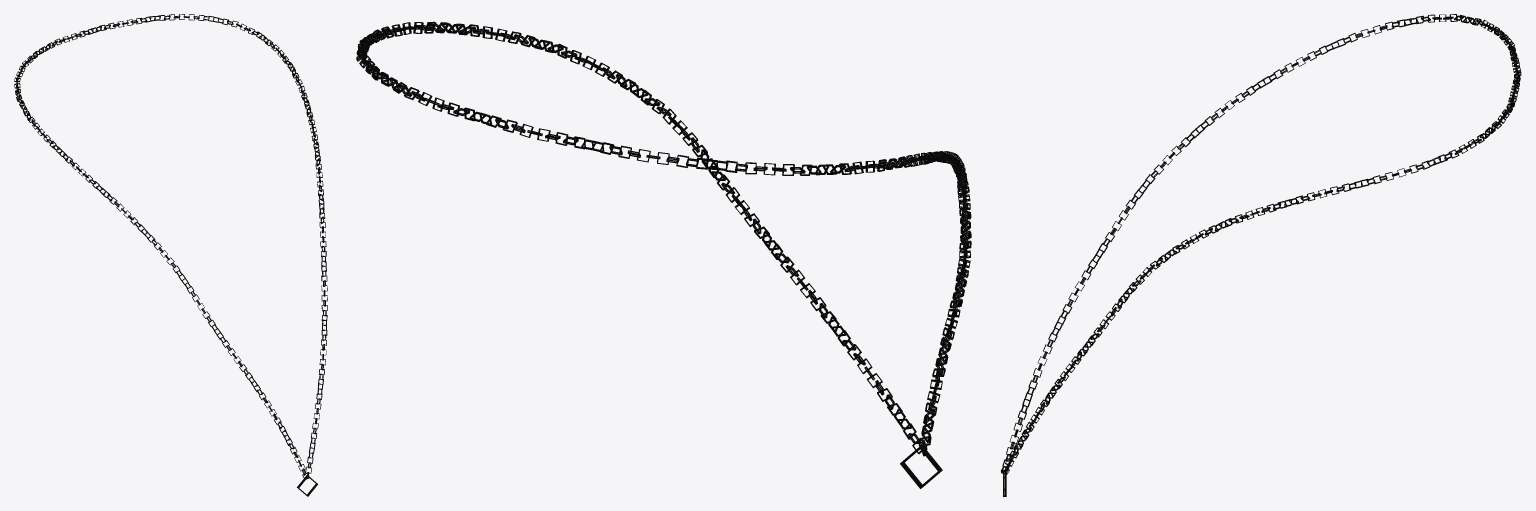
Rendered from thin-necklace.glb.
3 renders of one model, left to right at view 1: azimuth 30°, elevation 25°; view 2: azimuth 150°, elevation 25°; view 3: azimuth 270°, elevation 25°, orthographic. The views are drawn at different scales.
Parts seen in each view (by area): view 1: node_id8; view 2: node_id8; view 3: node_id8.
Boxes of the visible parts, x1,y1,x2,y2 form: node_id8: [14, 14, 327, 496]; node_id8: [356, 21, 971, 488]; node_id8: [1001, 14, 1521, 496].
Bounding box in the file's own units: 0.4174 × 0.512 × 0.5731.
Materials: 1 (1 with a texture image).
